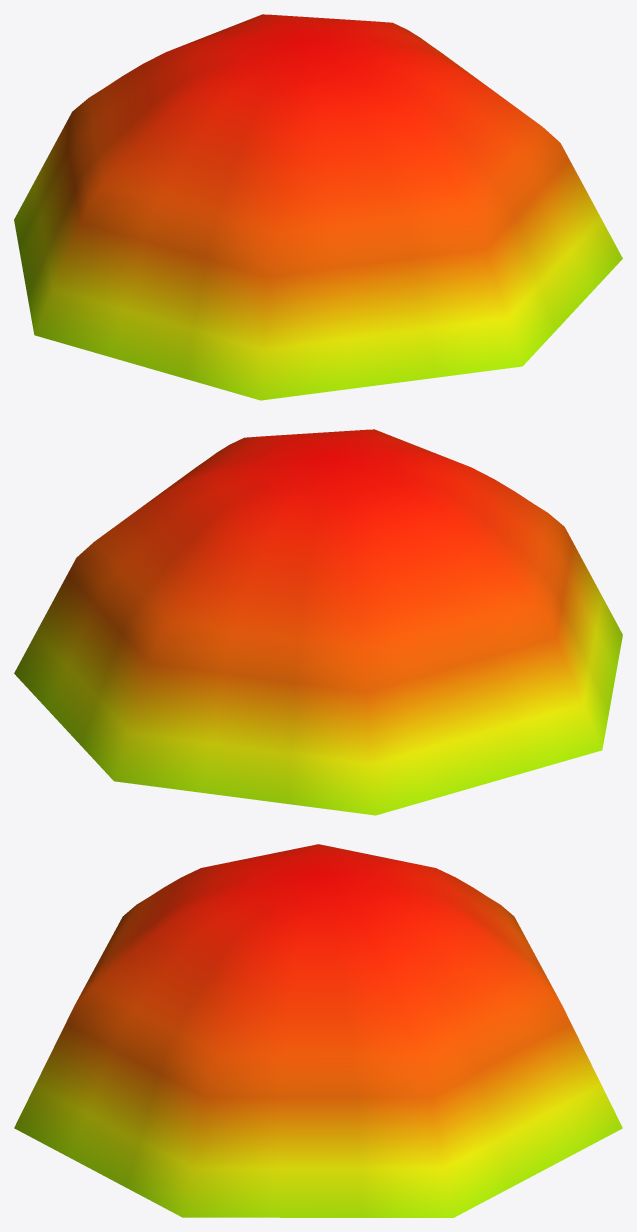
Rendered from ConeTop.fbx.
3 renders of one model, top to bottom at view 1: azimuth 30°, elevation 25°; view 2: azimuth 150°, elevation 25°; view 3: azimuth 270°, elevation 25°, orthographic.
Parts seen in each view (by area): view 1: polySurface1; view 2: polySurface1; view 3: polySurface1.
Boxes of the visible parts, x1,y1,x2,y2 form: polySurface1: (14, 14, 622, 400); polySurface1: (14, 429, 622, 815); polySurface1: (14, 844, 622, 1217).
Bounding box in the file's own units: 22.64 × 9.49 × 23.22.
1 material, 1 textured.
